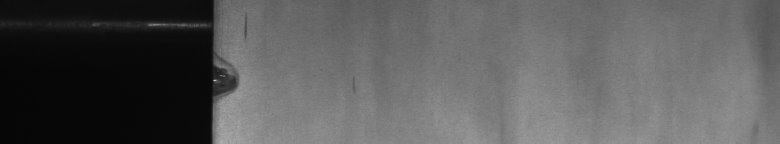hb: (224, 13, 251, 103)
